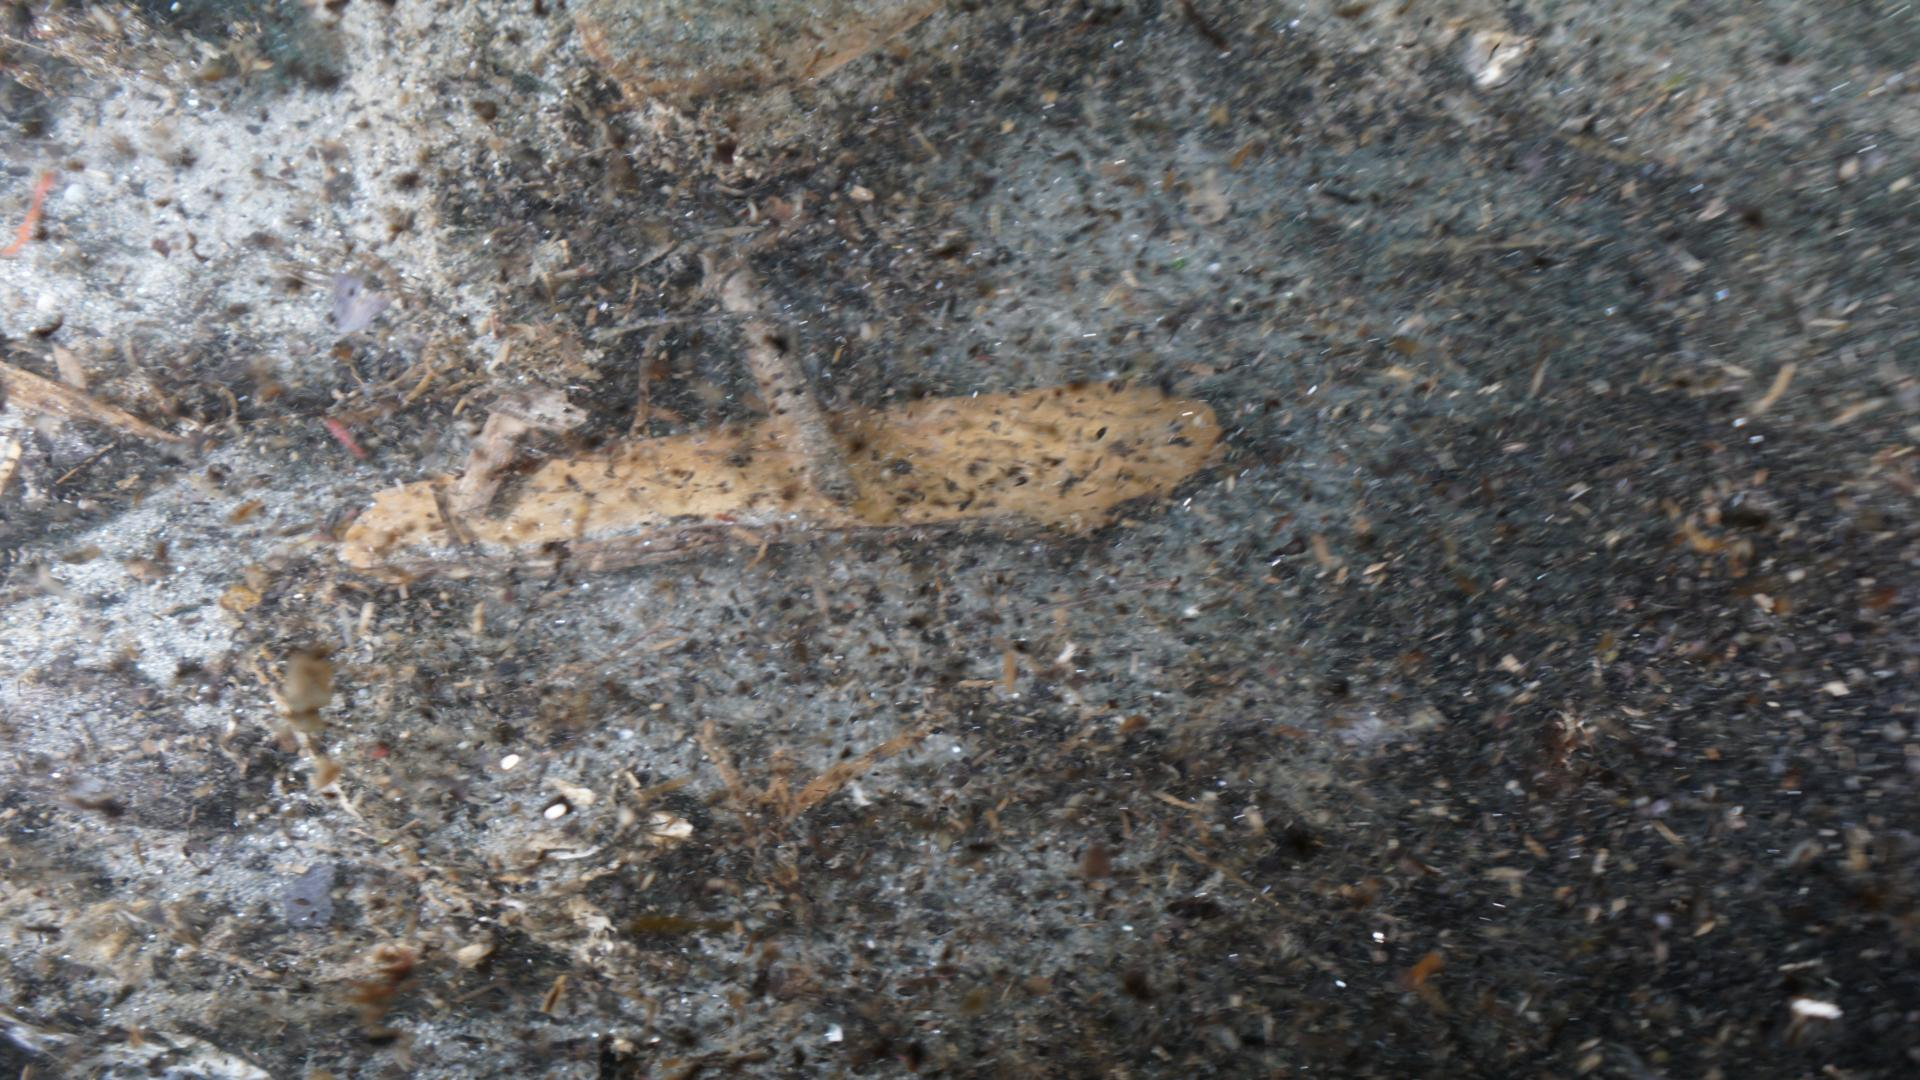wood: (332, 389, 1229, 585)
